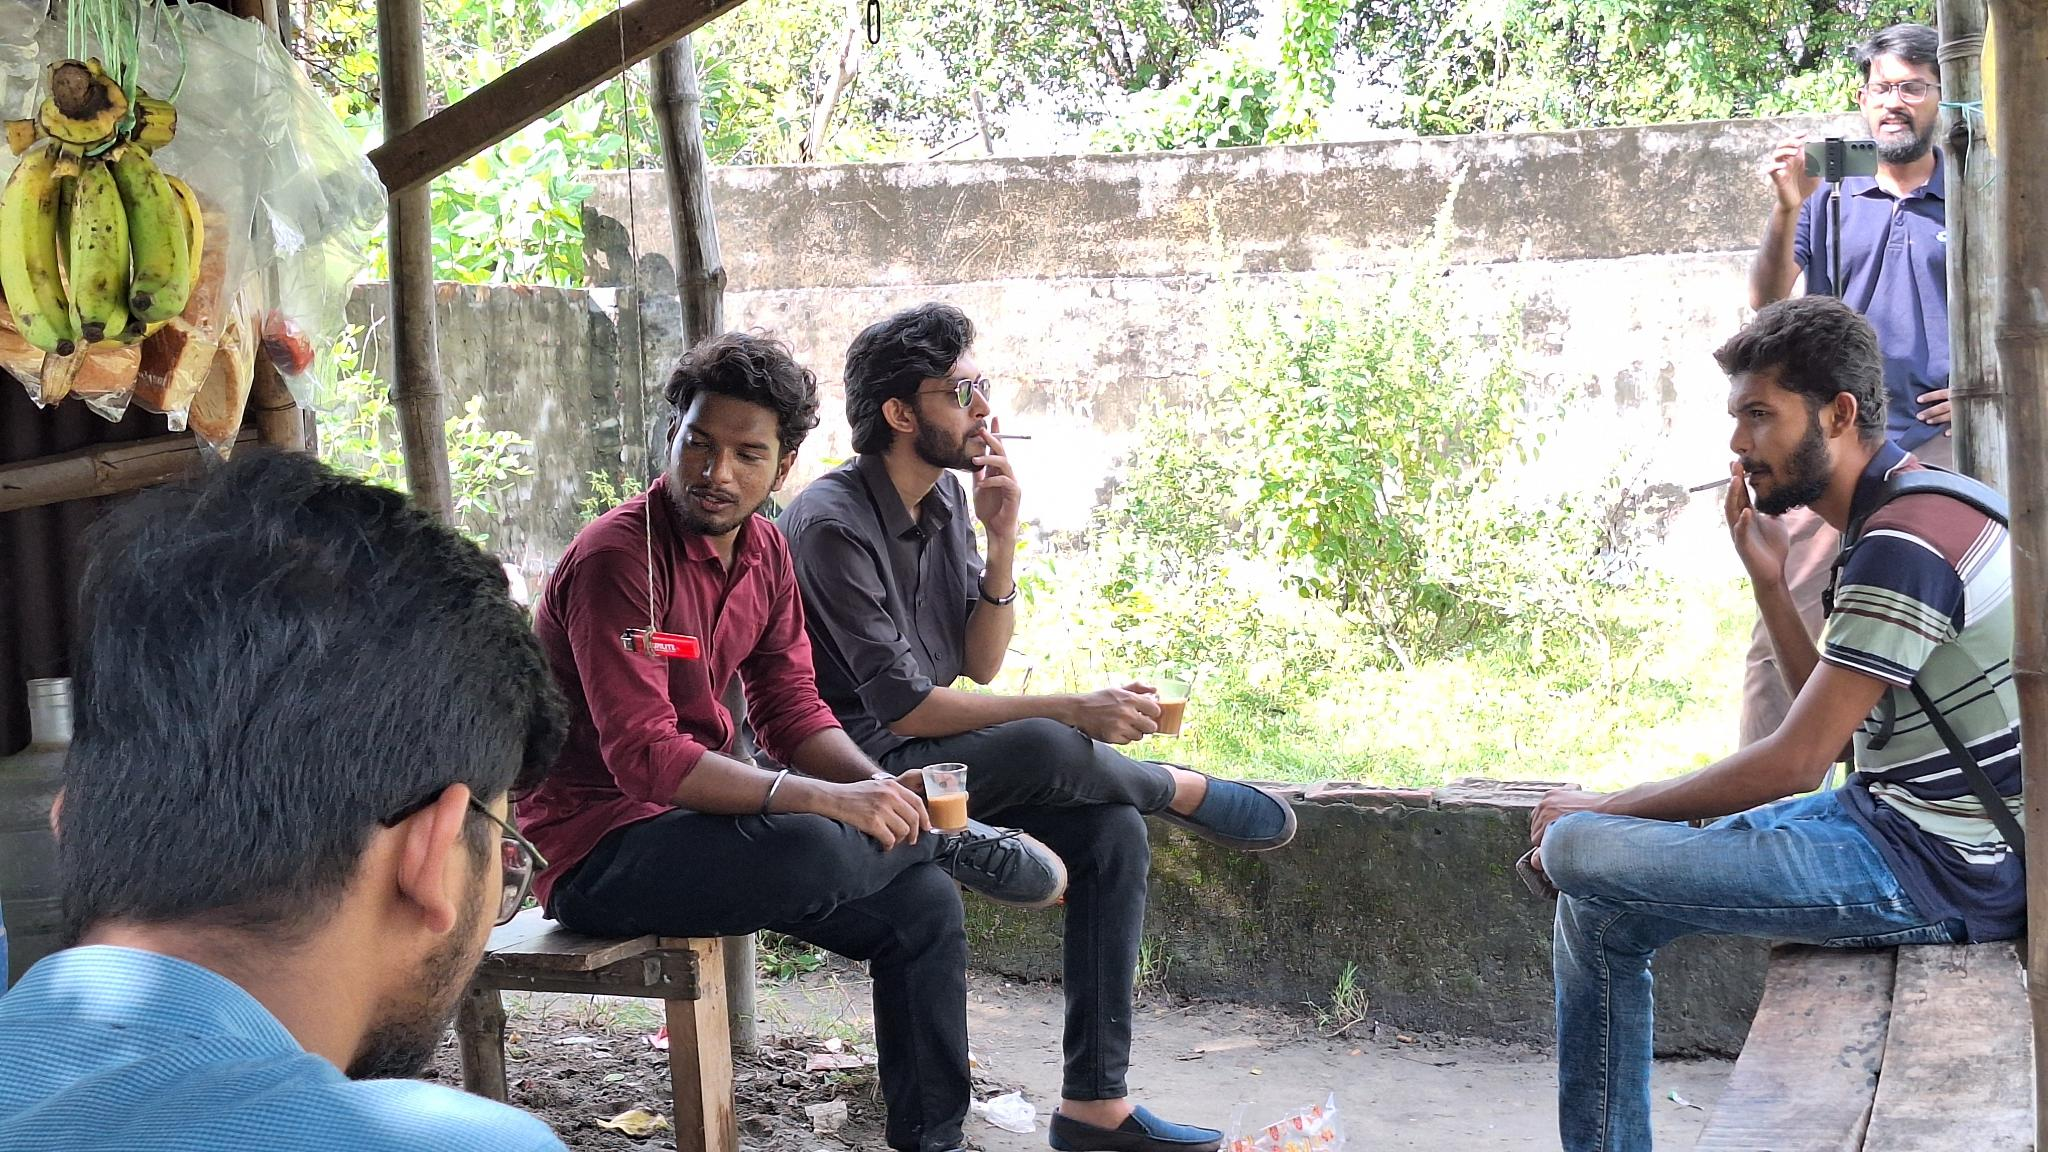cigarette: (1685, 467, 1757, 498), (980, 428, 1038, 444)
nonSmoker: (513, 333, 1065, 1152), (0, 456, 572, 1152), (1754, 24, 1959, 464)
smoker: (785, 308, 1303, 1152), (1515, 298, 2017, 1152)
